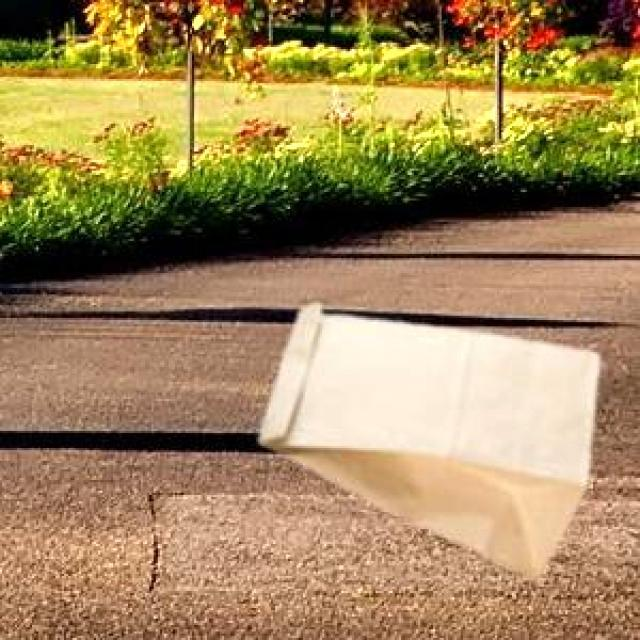Paper_Bag: (257, 302, 596, 575)
